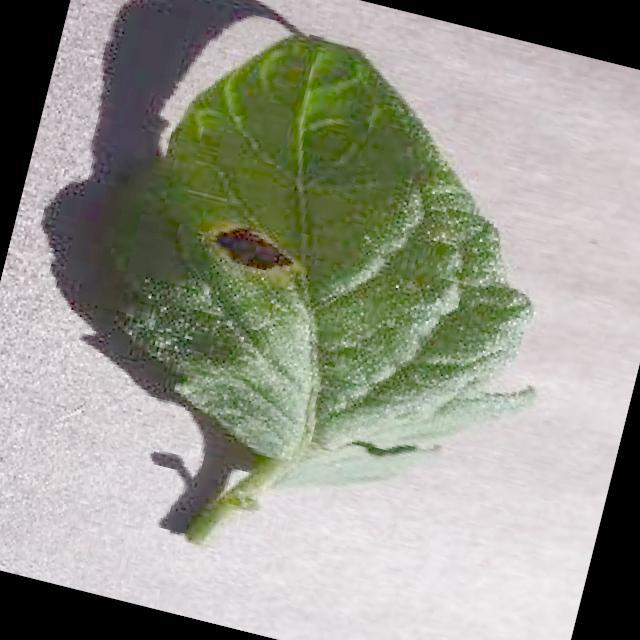Tomato Early blight leaf: (88, 0, 614, 543)
